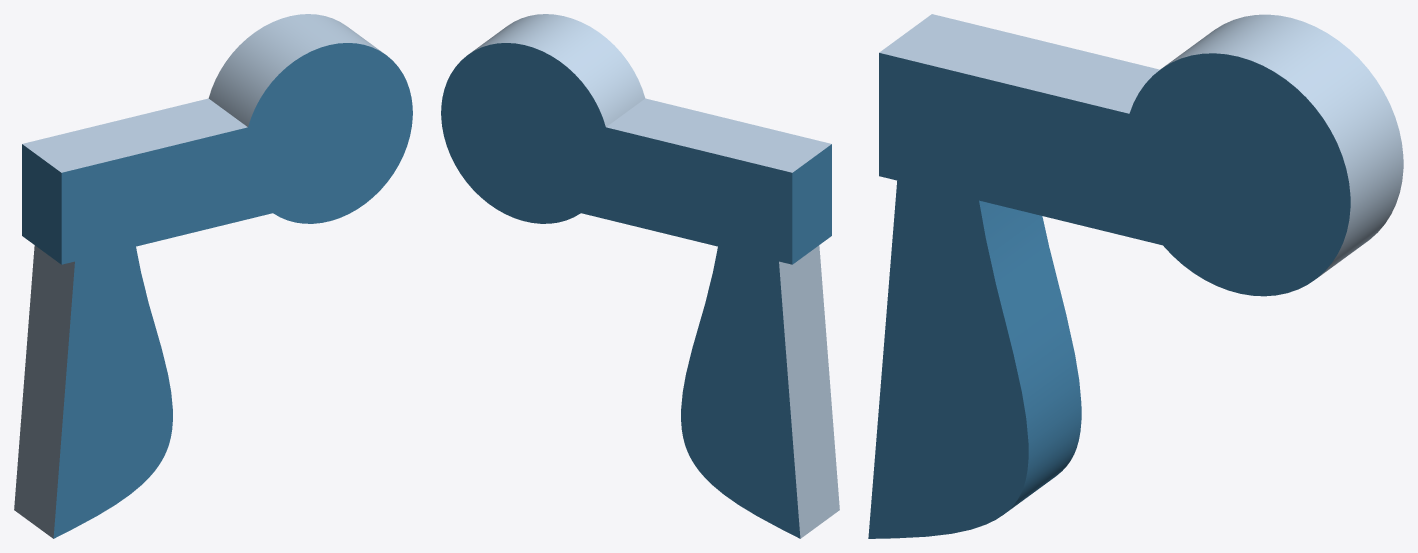
The picture shows the model from 3 angles, left to right: view 1: azimuth 30°, elevation 25°; view 2: azimuth 150°, elevation 25°; view 3: azimuth 330°, elevation 25°; orthographic projection. The views are drawn at different scales.
Parts seen in each view (by area): view 1: Part 1; view 2: Part 1; view 3: Part 1.
Part boxes in pixels (bbox=[...]): Part 1: bbox=[14, 14, 412, 538]; Part 1: bbox=[441, 14, 839, 538]; Part 1: bbox=[868, 14, 1403, 538].
Bounding box in the file's own units: 0.1336 × 0.1515 × 0.0254.
